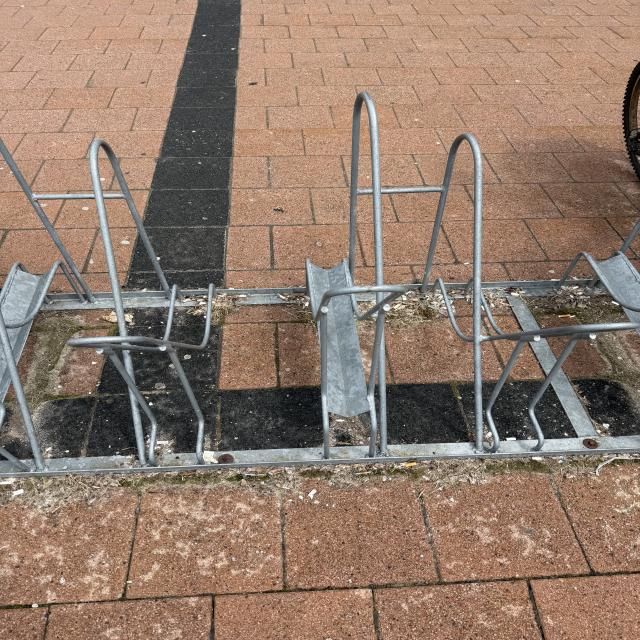Bicycle Rack: (1, 87, 640, 479)
